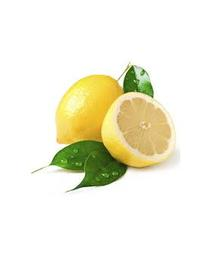lemon: (100, 92, 178, 168), (55, 75, 125, 142)
